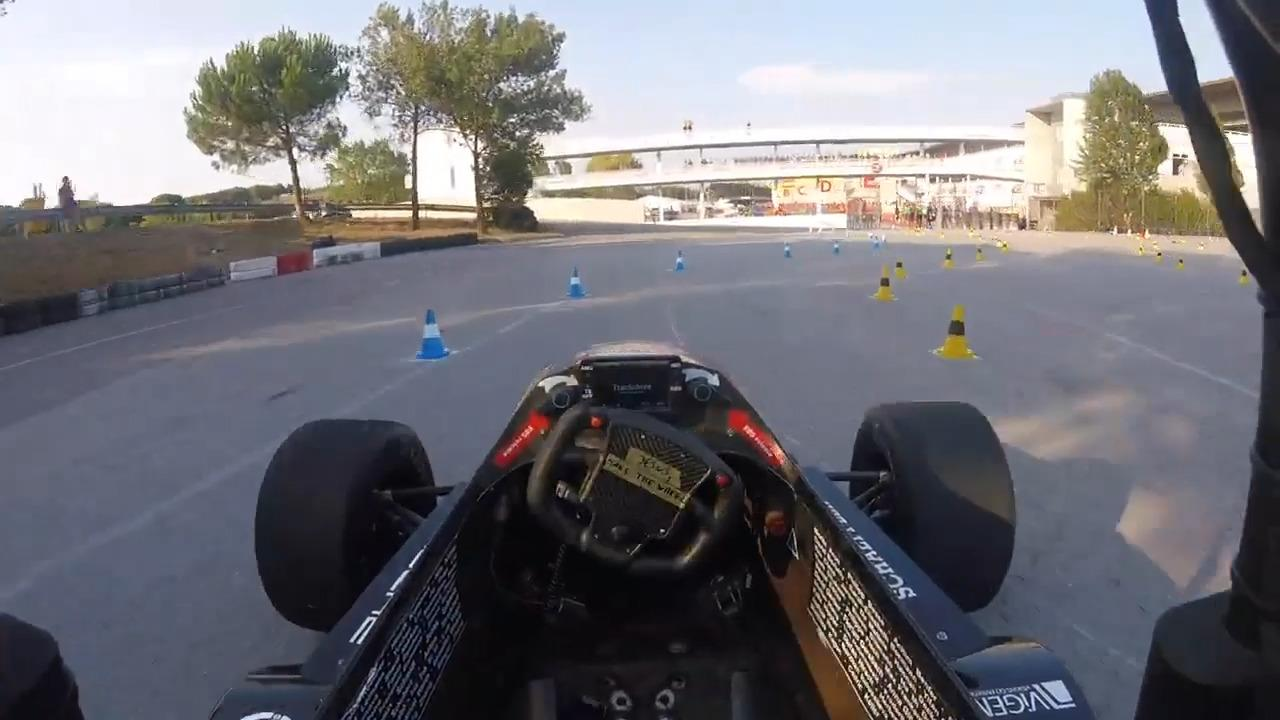blue_cone: (416, 308, 452, 362), (566, 267, 588, 301), (671, 251, 688, 272), (783, 243, 794, 259), (832, 240, 841, 255), (872, 235, 880, 249)
yellow_cone: (935, 305, 978, 361), (873, 263, 895, 303), (893, 255, 909, 282), (942, 247, 956, 271), (1237, 267, 1249, 286), (975, 246, 984, 263), (1153, 251, 1163, 265), (1177, 257, 1186, 271)
